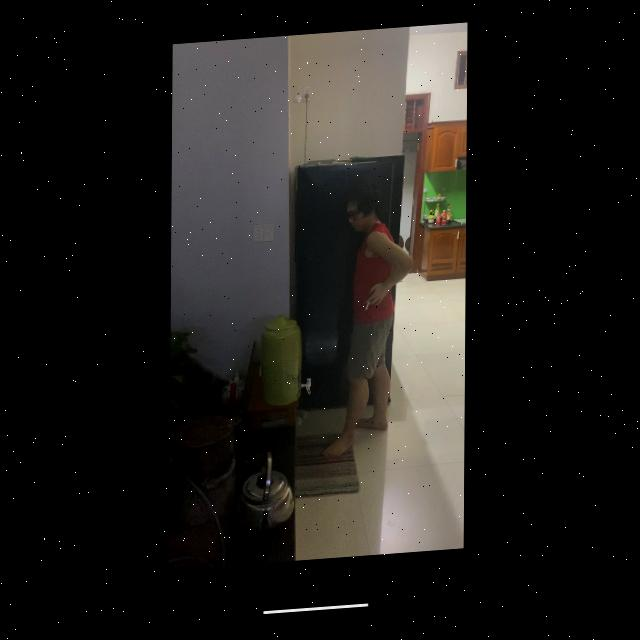cigarette: (366, 307, 371, 316)
